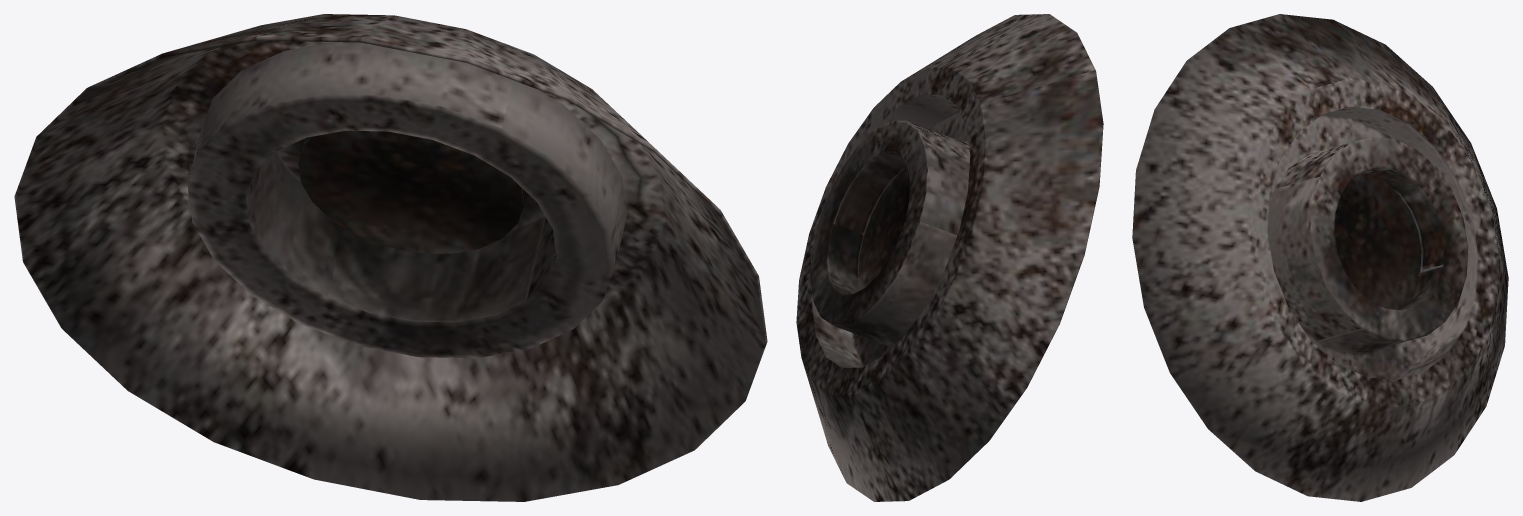
File: item11.fbx
3 views of the same model, side by side, from view 1: azimuth 30°, elevation 25°; view 2: azimuth 150°, elevation 25°; view 3: azimuth 270°, elevation 25° (orthographic). The views are drawn at different scales.
Visible parts, largest first — view 1: Item11; view 2: Item11; view 3: Item11.
Part boxes in pixels (x1,y1,x2,y2): Item11: [14, 14, 767, 501]; Item11: [796, 14, 1103, 501]; Item11: [1132, 14, 1508, 501].
Size of the model in its own units: 161 by 176 by 151.
